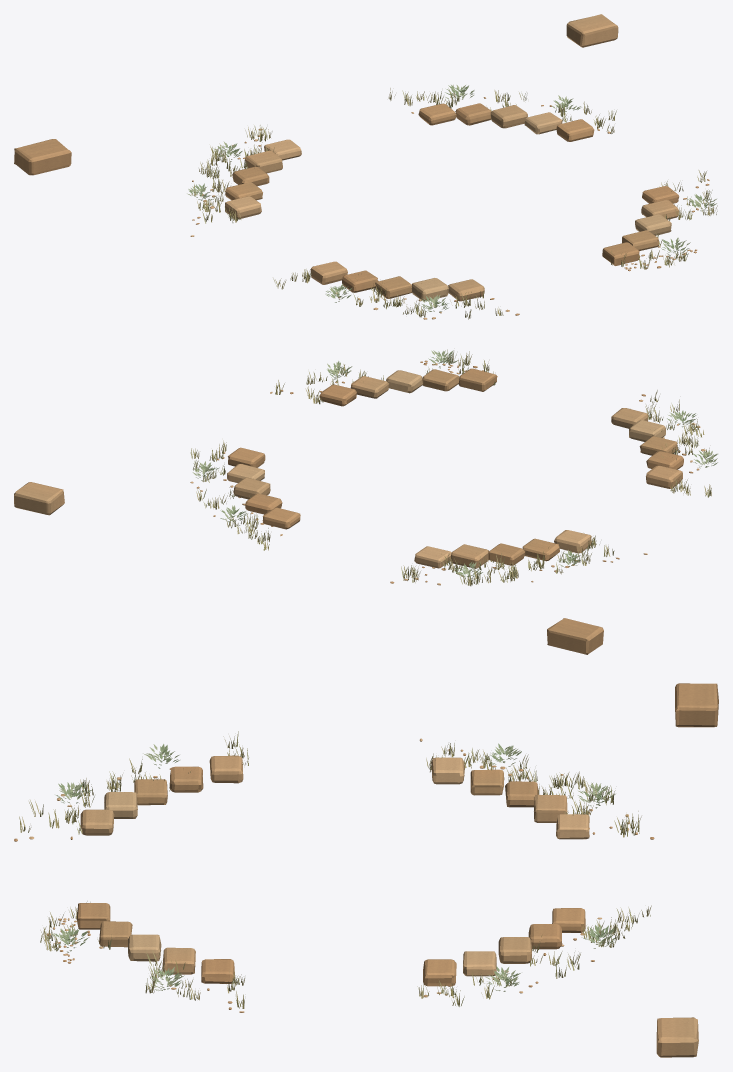
Rendered from before-surroundings.glb.
The picture shows the model from 3 angles, top to bottom: view 1: azimuth 30°, elevation 25°; view 2: azimuth 150°, elevation 25°; view 3: azimuth 270°, elevation 25°; orthographic projection. The views are drawn at different scales.
Visible parts, largest first — view 1: Arena entrance surroundings.003; view 2: Arena entrance surroundings.003; view 3: Arena entrance surroundings.003.
Part boxes in pixels (box(x1,y1,x2,y2)): Arena entrance surroundings.003: box(14, 14, 717, 319); Arena entrance surroundings.003: box(14, 349, 717, 654); Arena entrance surroundings.003: box(14, 683, 718, 1057).
Bounding box in the file's own units: 22.02 × 0.6424 × 18.41.
10 materials, 4 textured.
